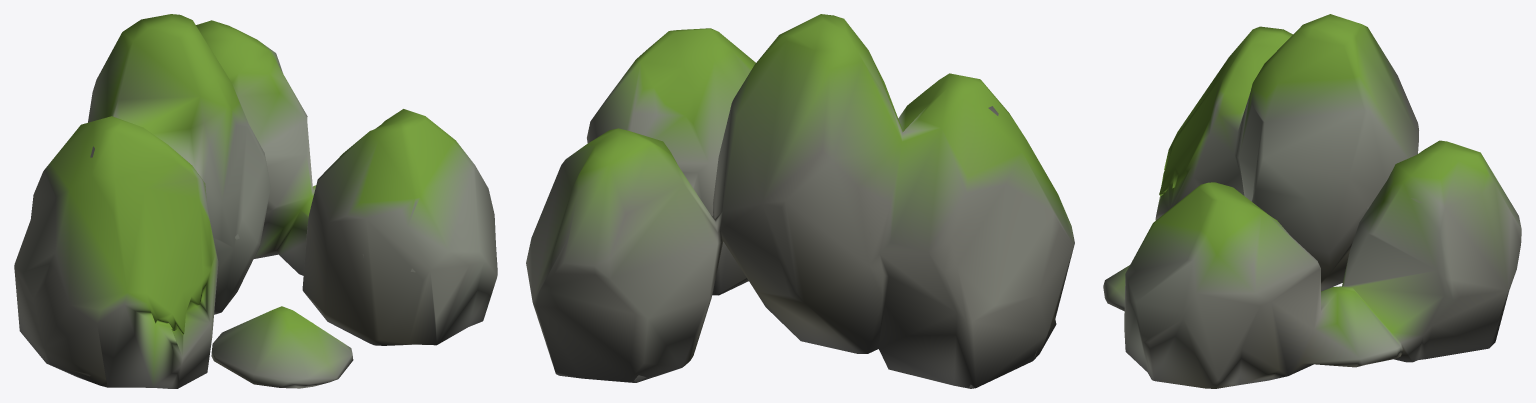
File: gen3d-mossy-rock-cluster-lod1.glb
3 renders of one model, left to right at view 1: azimuth 30°, elevation 25°; view 2: azimuth 150°, elevation 25°; view 3: azimuth 270°, elevation 25°, orthographic. The views are drawn at different scales.
Visible parts, largest first — view 1: part_0; view 2: part_0; view 3: part_0.
Part boxes in pixels (x1,y1,x2,y2): part_0: (14, 14, 497, 388); part_0: (526, 14, 1074, 388); part_0: (1103, 14, 1521, 388).
Bounding box in the file's own units: 1.5 × 0.9942 × 1.44.
